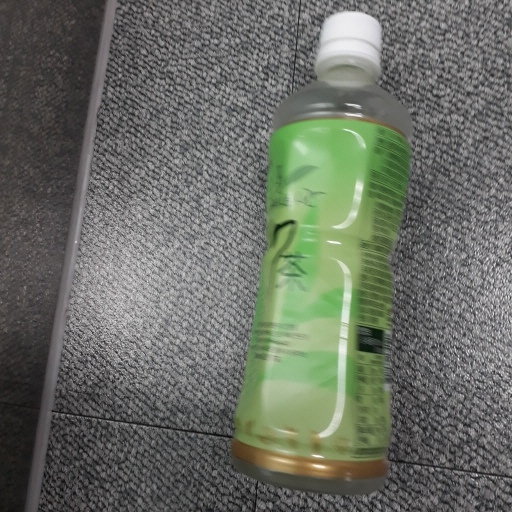Plastic_0: (224, 8, 417, 488)
